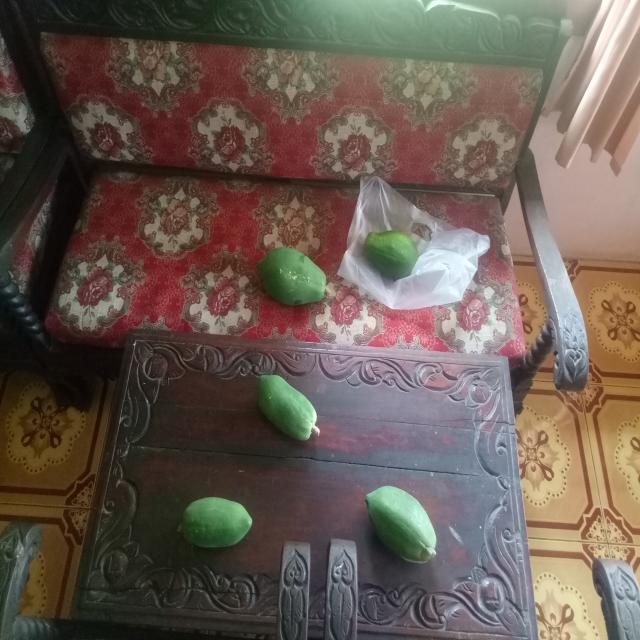Pepaya unrippen: (346, 480, 440, 574), (247, 352, 331, 453), (248, 228, 328, 310), (179, 494, 259, 551), (360, 231, 420, 281)
